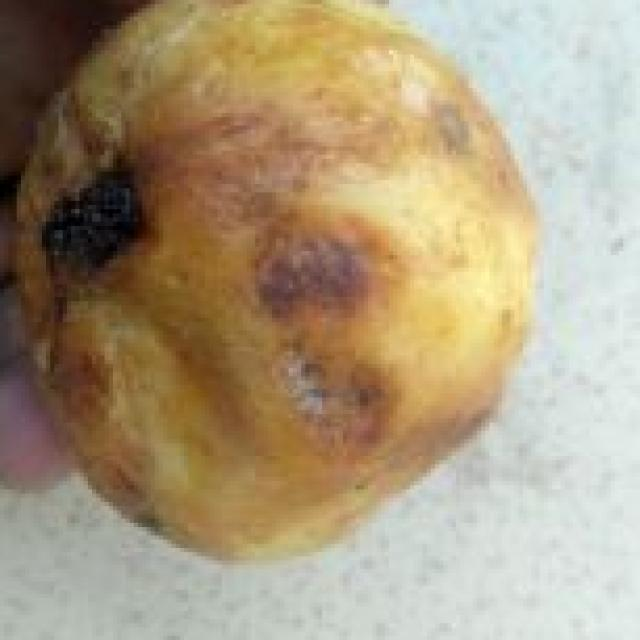Bad_Guava 0 day: (17, 0, 538, 555)
